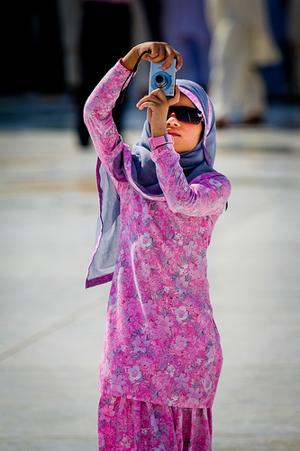person: (82, 41, 231, 449)
